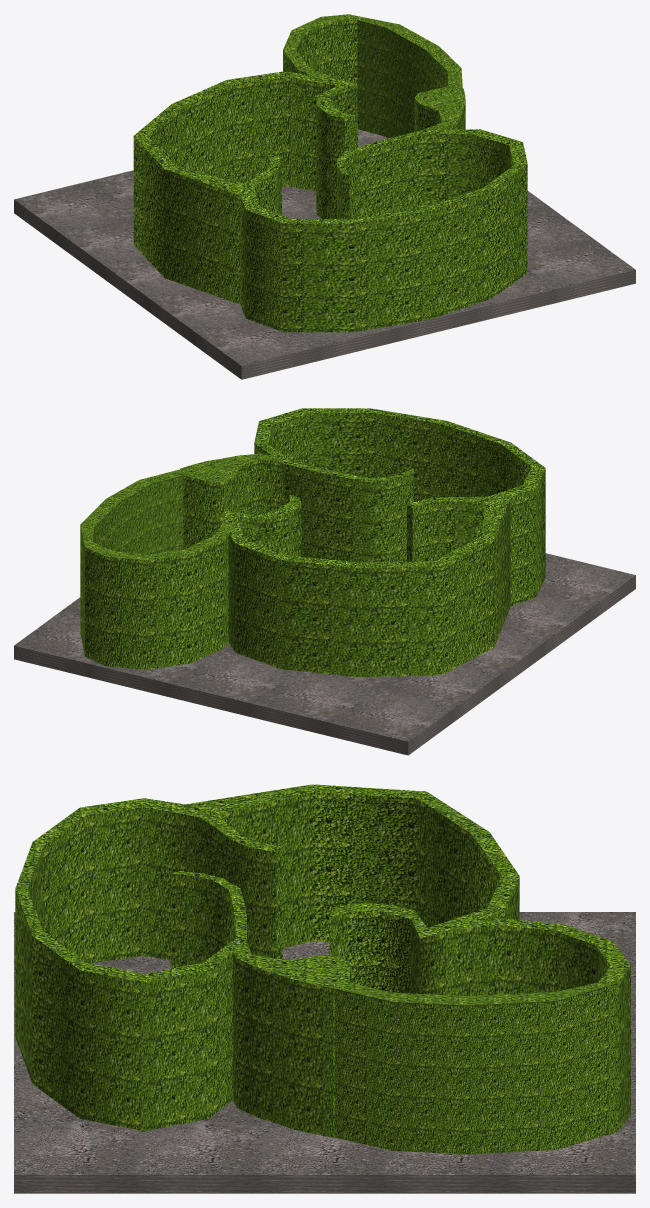
File: forest test 2.FBX
3 views of the same model, one above another, from view 1: azimuth 30°, elevation 25°; view 2: azimuth 150°, elevation 25°; view 3: azimuth 270°, elevation 25° (orthographic). The views are drawn at different scales.
Parts seen in each view (by area): view 1: Cylinder001; view 2: Cylinder001; view 3: Cylinder001.
Part boxes in pixels (bbox=[...]): Cylinder001: bbox=[14, 14, 635, 379]; Cylinder001: bbox=[14, 408, 635, 755]; Cylinder001: bbox=[14, 784, 635, 1193].
Bounding box in the file's own units: 354 × 106 × 354.
Materials: 2 (2 with a texture image).
